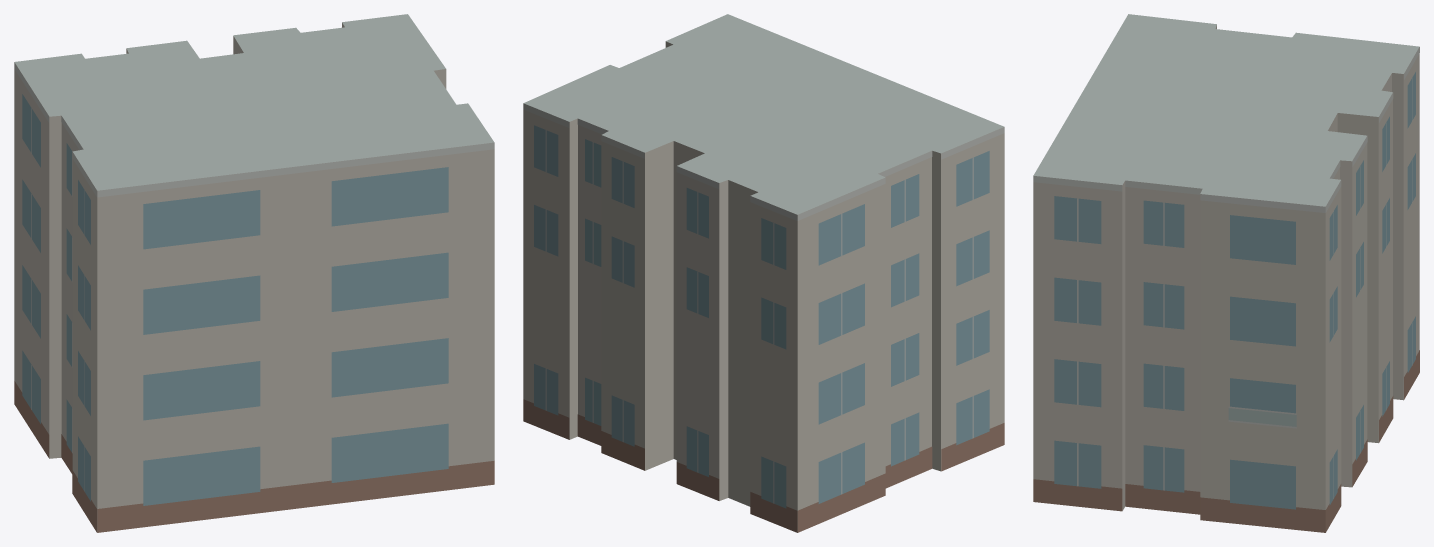
The model's file is survey-upis-32702188.glb.
3 renders of one model, left to right at view 1: azimuth 30°, elevation 25°; view 2: azimuth 150°, elevation 25°; view 3: azimuth 270°, elevation 25°, orthographic. The views are drawn at different scales.
Parts seen in each view (by area): view 1: survey-upis-32702188.tmp; view 2: survey-upis-32702188.tmp; view 3: survey-upis-32702188.tmp.
Boxes of the visible parts, bbox=[...] form: survey-upis-32702188.tmp: bbox=[14, 14, 494, 532]; survey-upis-32702188.tmp: bbox=[523, 14, 1004, 532]; survey-upis-32702188.tmp: bbox=[1033, 14, 1419, 532].
Size of the model in its own units: 15.72 by 12.4 by 13.32.
